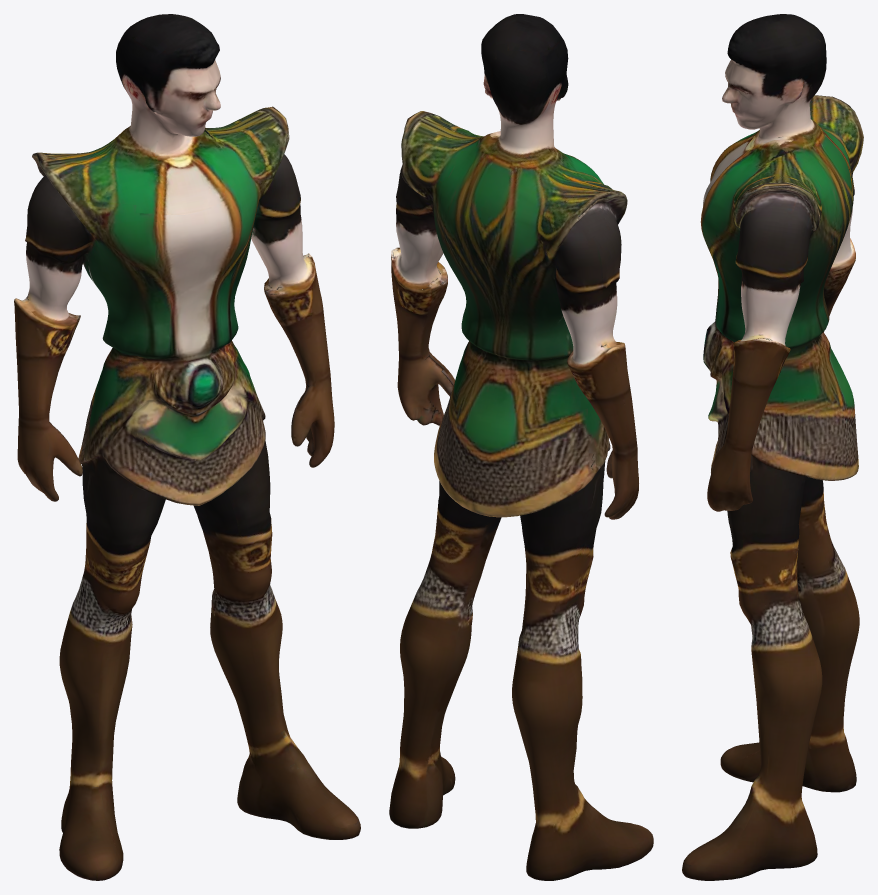
File: syrtis-alturian-male-archer.glb
The picture shows the model from 3 angles, left to right: view 1: azimuth 30°, elevation 25°; view 2: azimuth 150°, elevation 25°; view 3: azimuth 270°, elevation 25°; orthographic projection. The views are drawn at different scales.
Parts seen in each view (by area): view 1: model; view 2: model; view 3: model.
Part boxes in pixels (left/top/right/bottom): model: left=14, top=14, right=360, bottom=880; model: left=389, top=14, right=653, bottom=880; model: left=682, top=14, right=863, bottom=880.
Size of the model in its own units: 0.6802 by 1.9 by 0.3944.
Materials: 1 (1 with a texture image).
